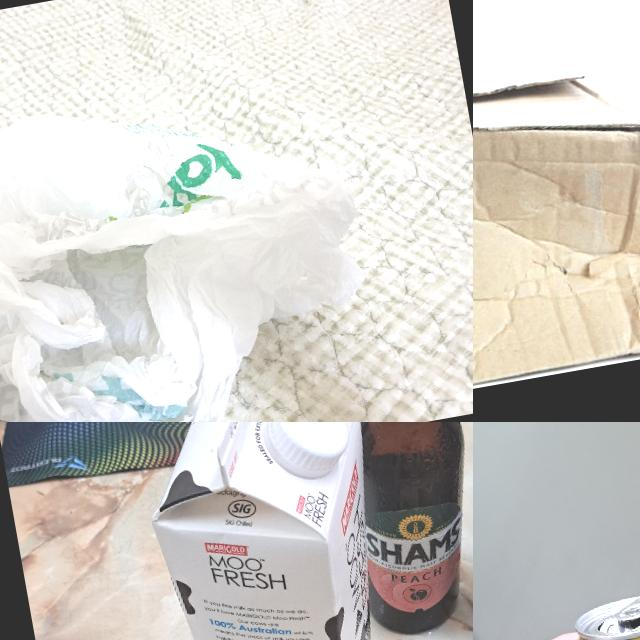aba de lata: (611, 590, 640, 622)
caixinha: (127, 422, 420, 640)
garrafa de vidro: (325, 422, 473, 640)
papelão: (473, 32, 640, 422)
sacola plástica: (0, 59, 398, 422)
tampa plástica: (263, 422, 356, 482)
